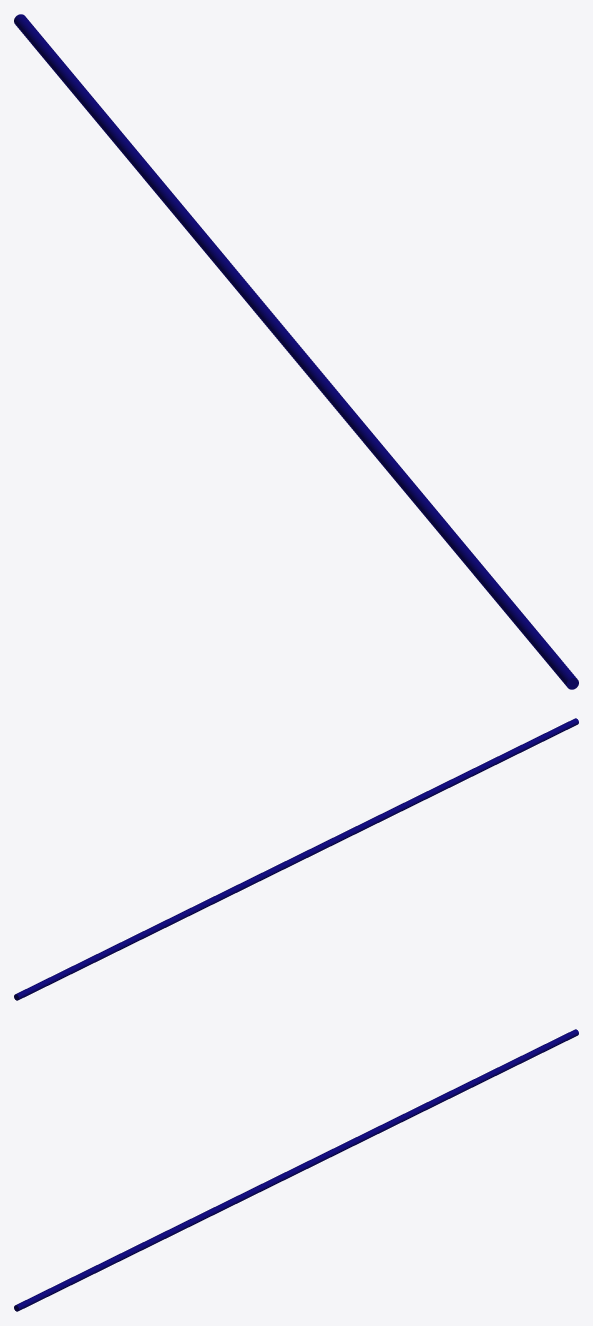
3 renders of one model, top to bottom at view 1: azimuth 30°, elevation 25°; view 2: azimuth 150°, elevation 25°; view 3: azimuth 330°, elevation 25°, orthographic. The views are drawn at different scales.
Parts seen in each view (by area): view 1: Cylinder.002; view 2: Cylinder.002; view 3: Cylinder.002.
Part boxes in pixels (x1,y1,x2,y2): Cylinder.002: (14,14,578,689); Cylinder.002: (14,718,578,1000); Cylinder.002: (14,1029,578,1311).
Bounding box in the file's own units: 1.39 × 0.0569 × 7.15.
